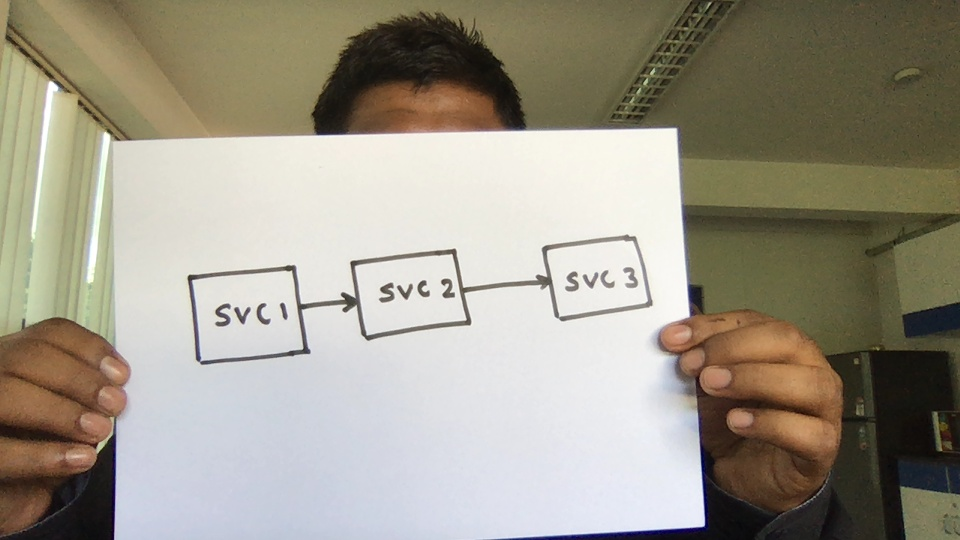ec2: (177, 260, 314, 371), (341, 238, 478, 349), (527, 226, 664, 337)
